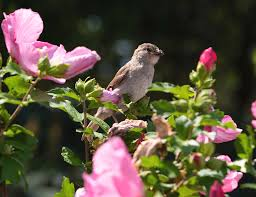home_sparrow: (80, 40, 165, 142)
